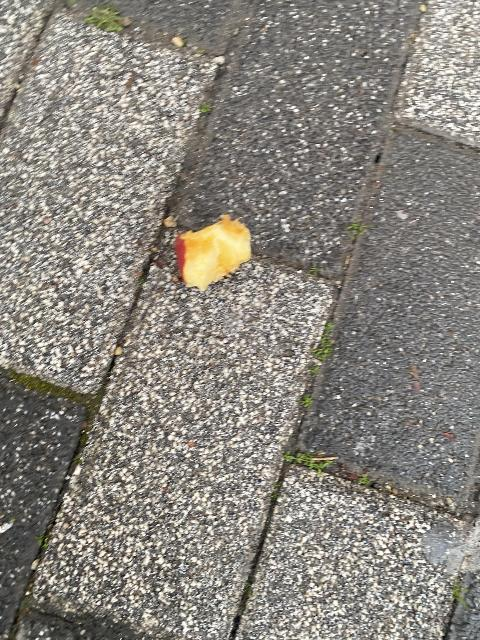Organik: (165, 219, 273, 286)
